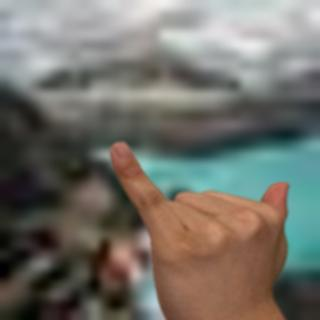HAVE: (98, 134, 307, 319)
